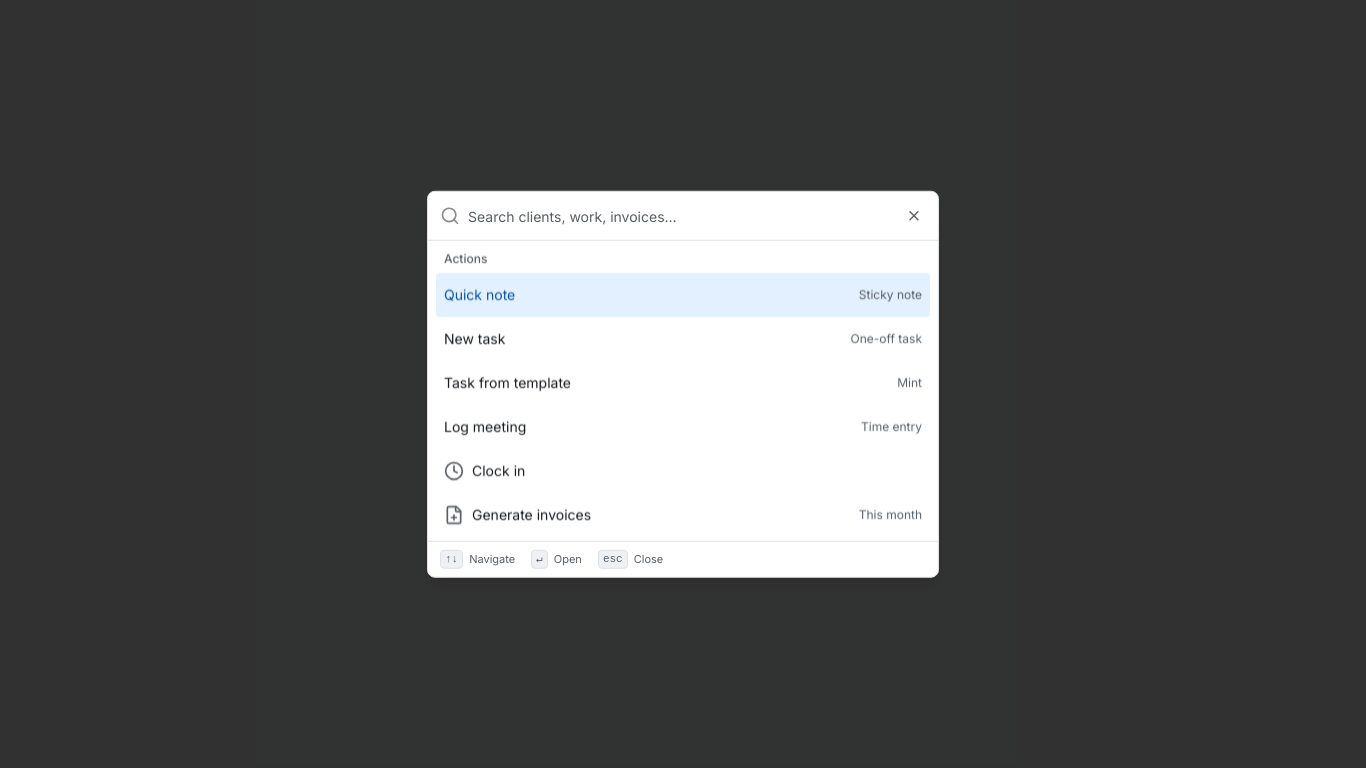
CommandMenu palette › shows the empty state when nothing matches
This screenshot has width=1366, height=768.
Type "zzzzzz" into the dropdown with placeholder "Search clients, work, invoices…" at (697, 216), box [468,192,926,240]
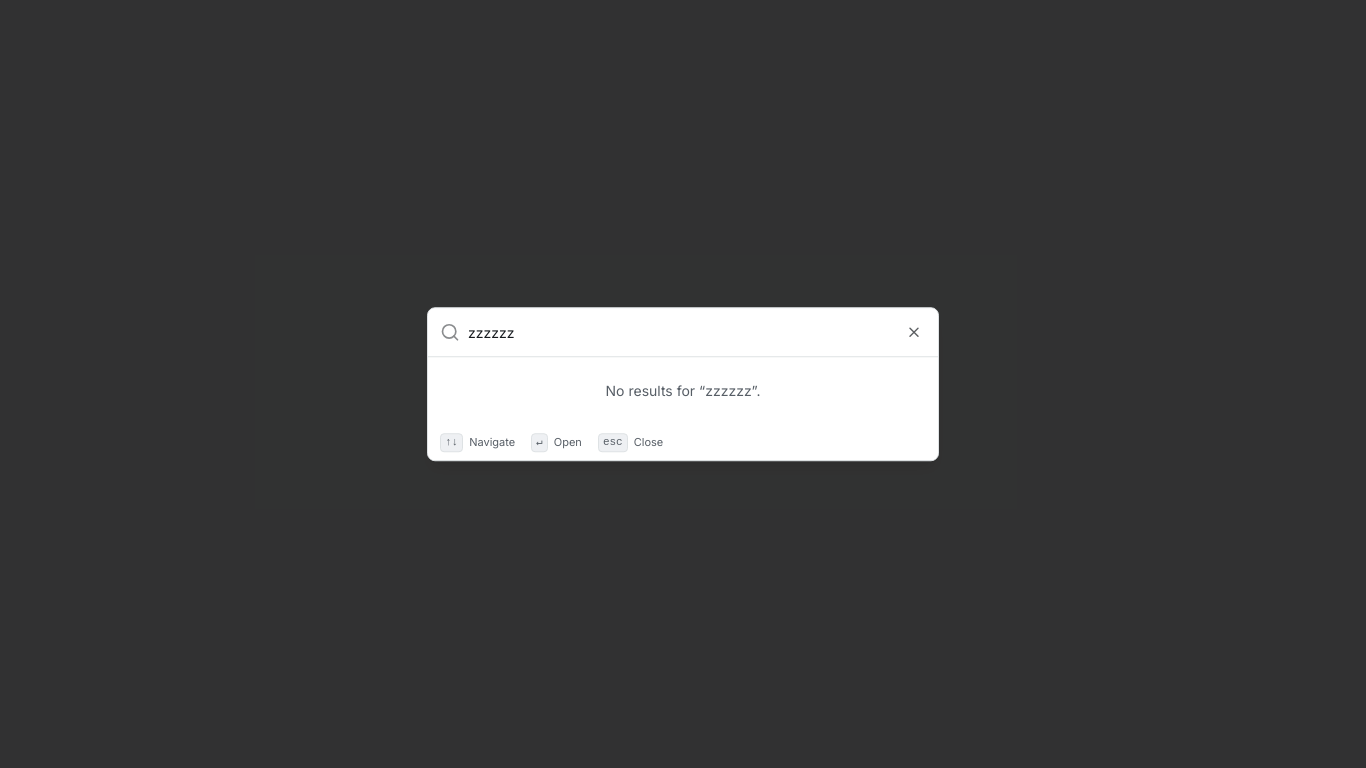
Expected: the text "No results for “zzzzzz”." is shown, [606,382,760,399]
